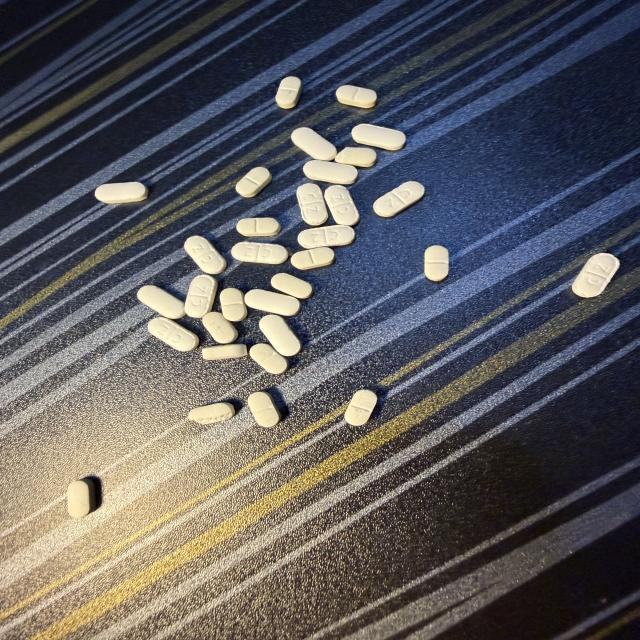pill: (572, 253, 619, 297), (374, 182, 424, 217), (148, 318, 199, 351), (260, 315, 301, 356), (137, 286, 185, 319), (185, 236, 226, 274), (291, 128, 337, 160), (245, 289, 300, 315), (297, 225, 355, 249), (352, 124, 405, 150), (325, 185, 359, 225), (185, 275, 217, 317), (303, 160, 357, 184), (297, 184, 328, 225), (231, 242, 288, 264), (249, 344, 288, 374), (67, 478, 96, 518), (248, 392, 280, 427), (345, 390, 377, 425), (95, 182, 148, 203), (235, 167, 272, 197), (203, 312, 237, 344), (271, 273, 312, 299), (291, 247, 335, 270), (188, 403, 235, 424), (424, 245, 449, 282), (336, 85, 376, 108), (220, 288, 247, 321), (276, 77, 302, 108), (335, 148, 376, 167), (237, 218, 280, 236), (202, 344, 247, 360)
